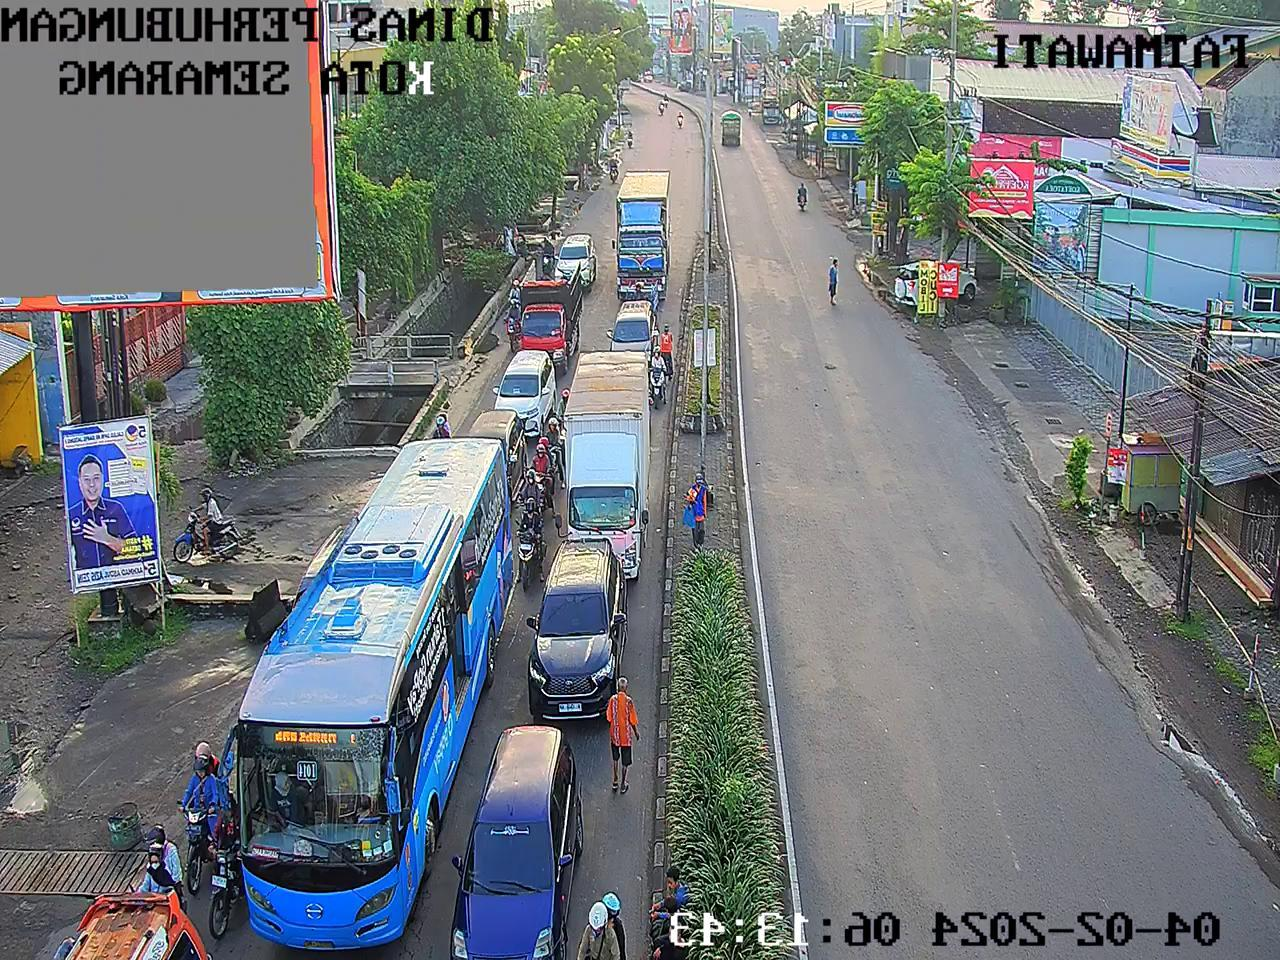bus: (221, 438, 545, 960)
car: (447, 726, 628, 960), (514, 526, 634, 725), (33, 864, 204, 960), (457, 390, 539, 514), (581, 284, 669, 388), (485, 343, 561, 437), (537, 229, 599, 301)
motorcycle: (159, 727, 241, 885), (190, 770, 259, 943), (557, 867, 643, 960), (117, 805, 174, 936), (634, 315, 683, 417), (408, 400, 468, 473), (476, 264, 535, 333), (518, 427, 561, 508), (509, 494, 549, 577), (528, 409, 566, 491), (491, 284, 530, 356), (516, 468, 553, 536), (534, 227, 564, 287), (548, 375, 578, 431), (652, 78, 683, 116), (618, 119, 642, 167), (602, 148, 626, 193), (666, 107, 688, 147), (649, 100, 668, 116)
truck: (553, 335, 671, 541), (497, 256, 590, 382), (614, 153, 688, 295)
